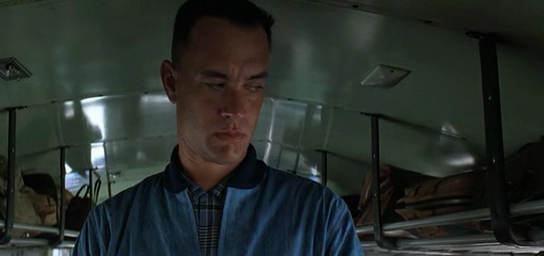cu: (1, 1, 544, 256)
face: (187, 40, 268, 165)
person: (71, 1, 365, 256)
